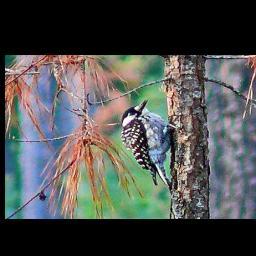Woodpecker: (111, 95, 192, 197)
